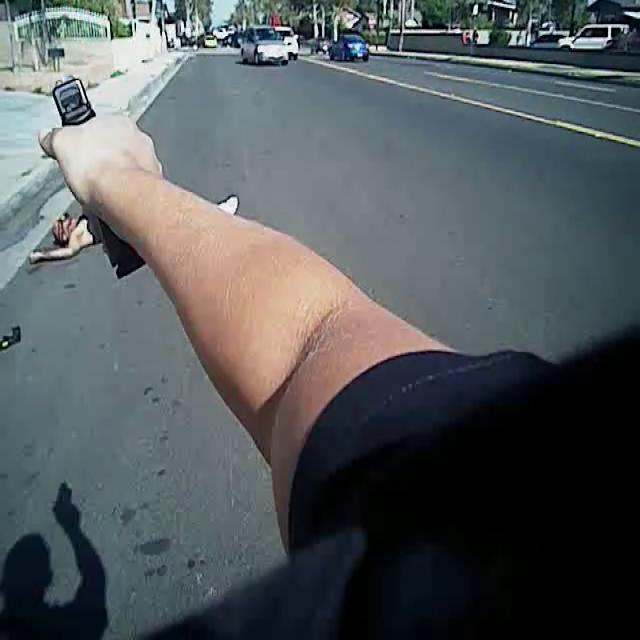gun: (34, 64, 164, 286)
